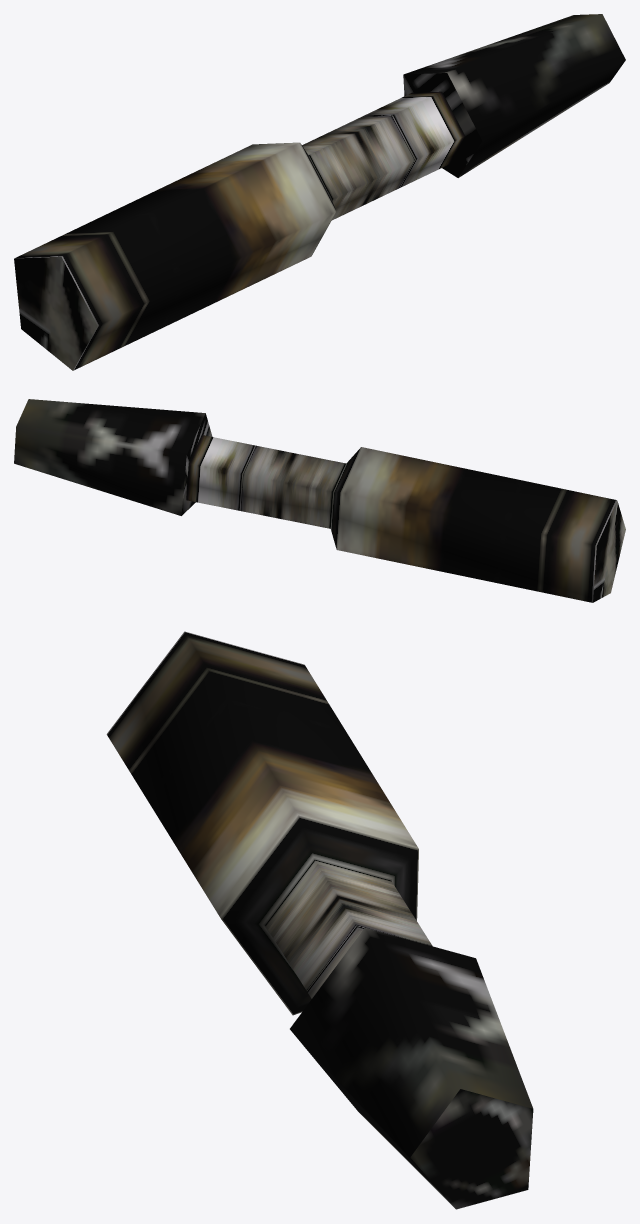
File: USA - Armor - Avenger - Damage State 3 - AVAvnger_D3.glb
3 views of the same model, one above another, from view 1: azimuth 30°, elevation 25°; view 2: azimuth 150°, elevation 25°; view 3: azimuth 270°, elevation 25° (orthographic). The views are drawn at different scales.
Visible parts, largest first — view 1: AVAVNGER_D3; view 2: AVAVNGER_D3; view 3: AVAVNGER_D3.
Part boxes in pixels (x1=…): AVAVNGER_D3: x1=14, y1=14, x2=625, y2=370; AVAVNGER_D3: x1=14, y1=399, x2=625, y2=602; AVAVNGER_D3: x1=106, y1=631, x2=533, y2=1209.
Bounding box in the file's own units: 12.59 × 2.84 × 4.34.
1 material, 1 textured.
